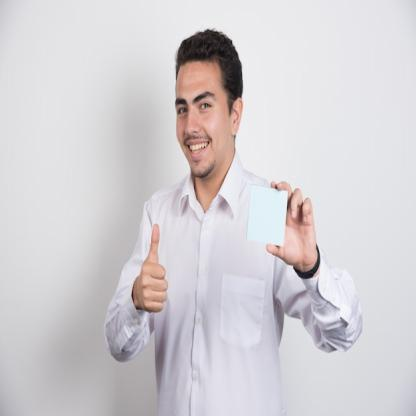thumb_up: (136, 218, 172, 319)
